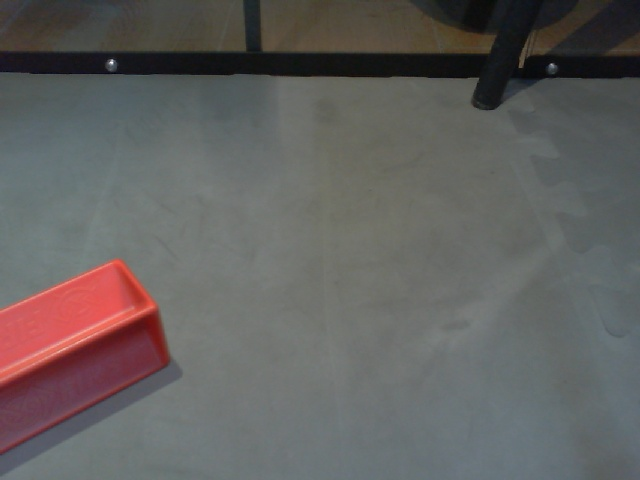RedSample: (1, 256, 172, 456)
